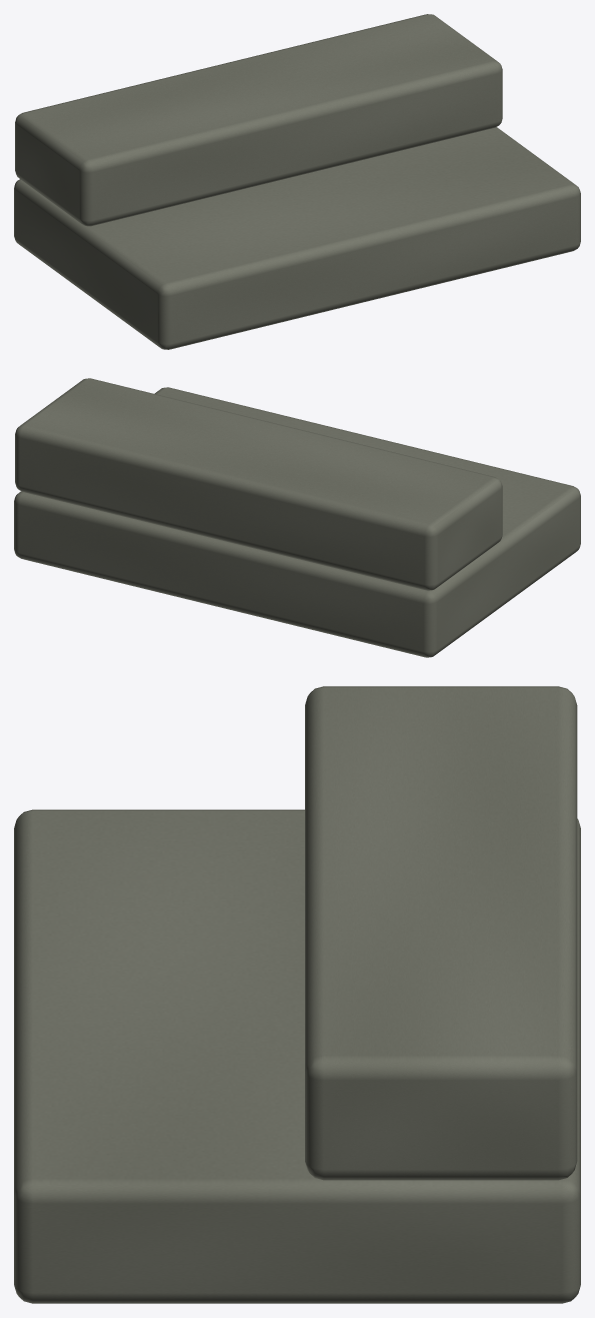
File: step.glb
3 renders of one model, top to bottom at view 1: azimuth 30°, elevation 25°; view 2: azimuth 150°, elevation 25°; view 3: azimuth 270°, elevation 25°, orthographic. The views are drawn at different scales.
Parts seen in each view (by area): view 1: step; view 2: step; view 3: step.
Part boxes in pixels (bbox=[...]): step: bbox=[14, 14, 580, 349]; step: bbox=[14, 378, 580, 657]; step: bbox=[14, 686, 580, 1303].
Bounding box in the file's own units: 1.2 × 0.36 × 0.75.
1 material, 1 textured.
